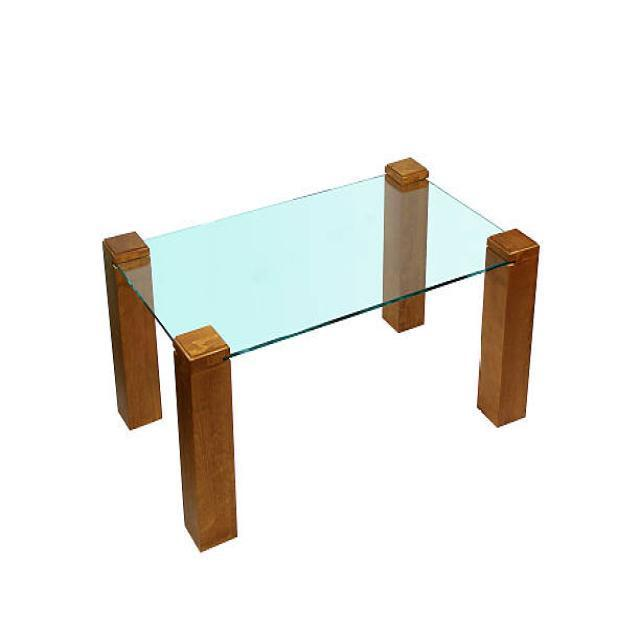table: (101, 155, 540, 552)
